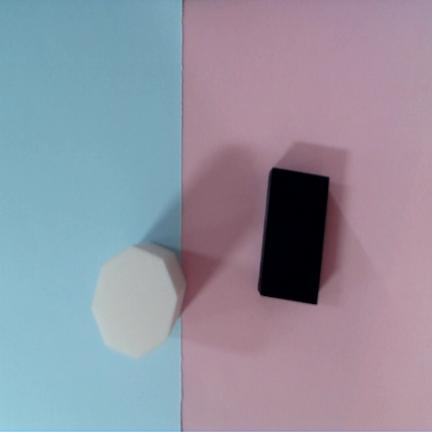Paralelepipedo: (259, 167, 329, 303)
Prisma_hexagonal: (92, 243, 186, 358)
